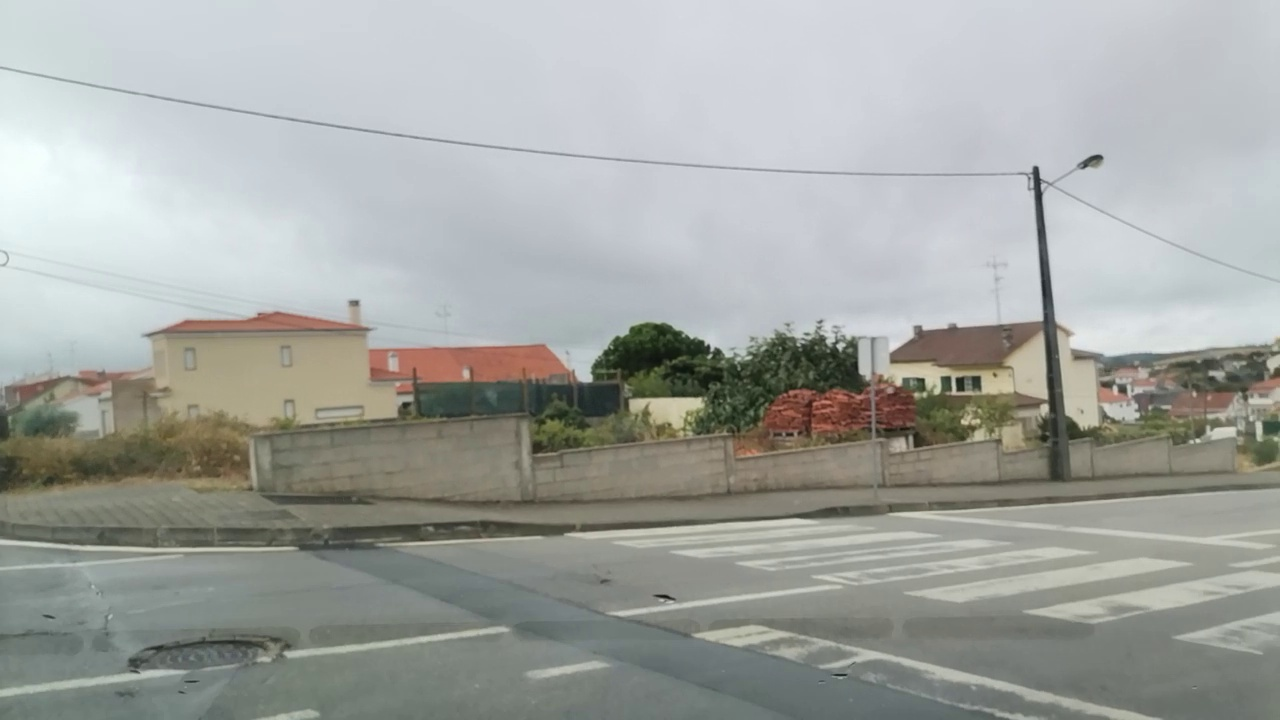Stairs: (558, 517, 1278, 665)
